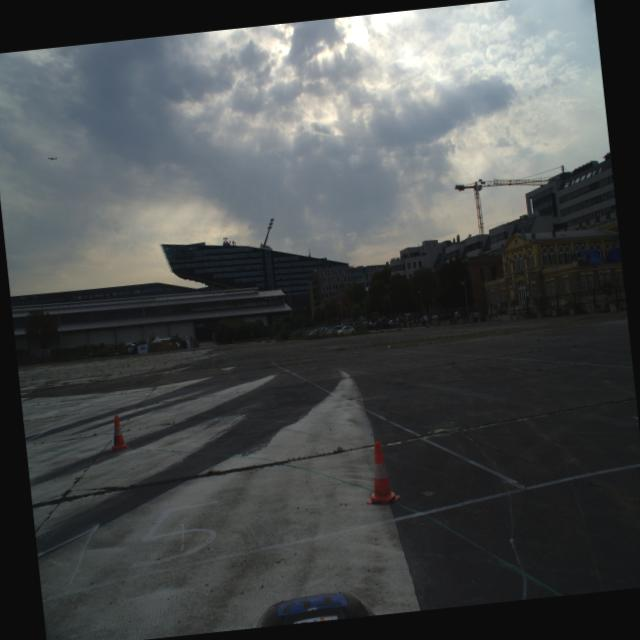orange_cone: (360, 439, 401, 506), (104, 414, 130, 452)
